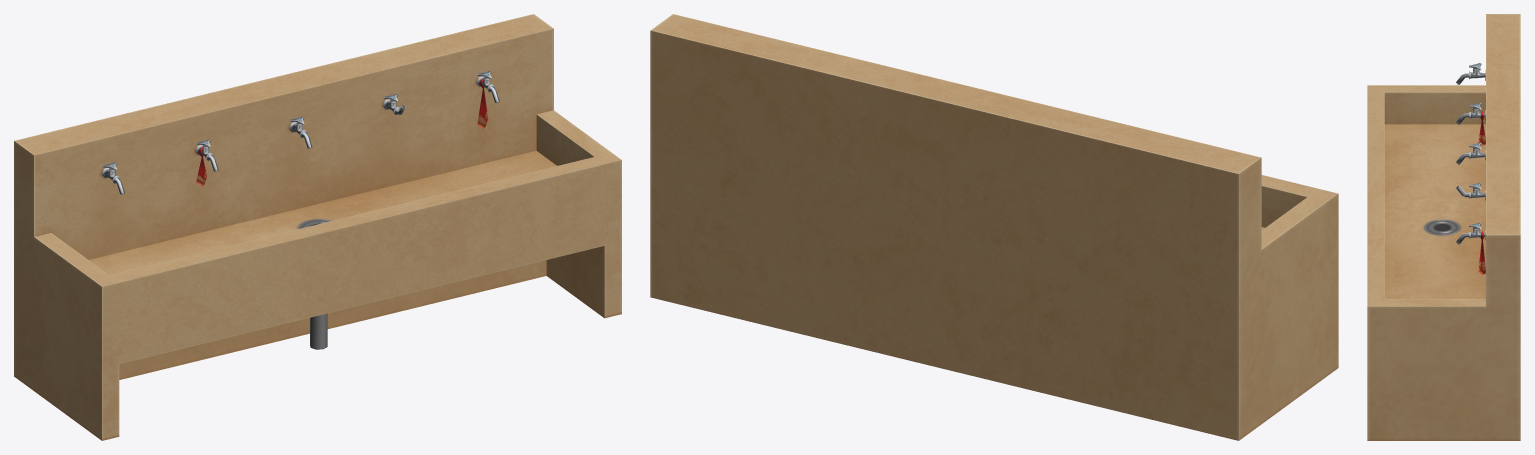
The model's file is set_sink_01.fbx.
3 renders of one model, left to right at view 1: azimuth 30°, elevation 25°; view 2: azimuth 150°, elevation 25°; view 3: azimuth 270°, elevation 25°, orthographic. The views are drawn at different scales.
Visible parts, largest first — view 1: sink_01; view 2: sink_01; view 3: sink_01.
Boxes of the visible parts, x1,y1,x2,y2 form: sink_01: (14,14,621,440); sink_01: (650,14,1338,440); sink_01: (1367,14,1520,440).
Size of the model in its own units: 300 by 130 by 88.
